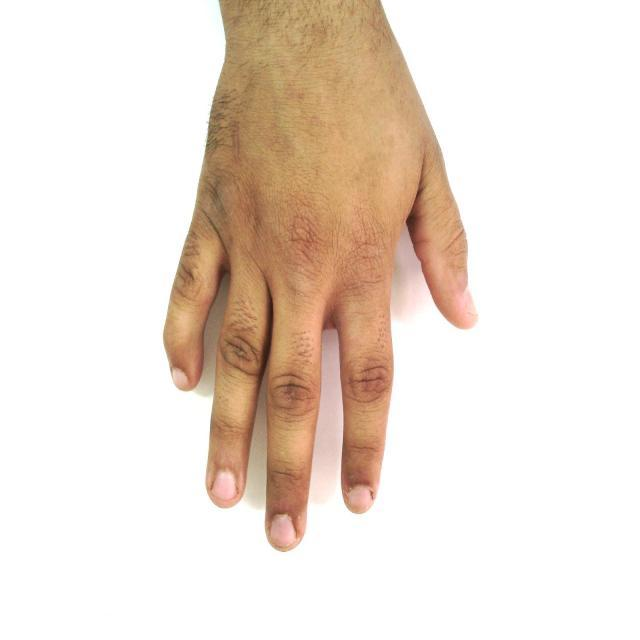Fingernail: (271, 515, 296, 546), (213, 471, 236, 501), (348, 487, 371, 513), (464, 292, 478, 317), (173, 368, 188, 390)
